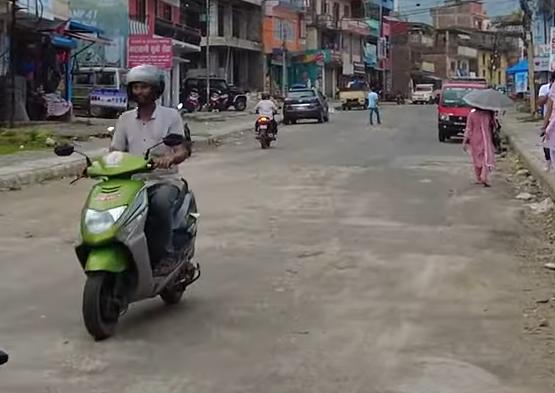car: (284, 87, 331, 125)
scooter: (46, 129, 205, 343)
transport_vehicle: (411, 71, 442, 105)
